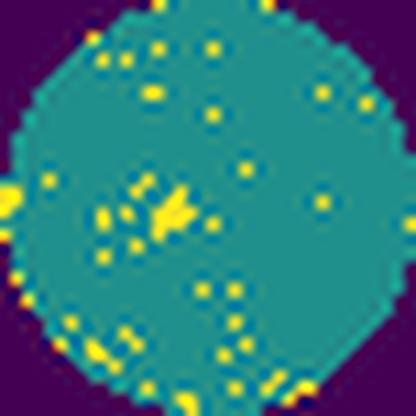Center: (141, 183, 210, 245)
